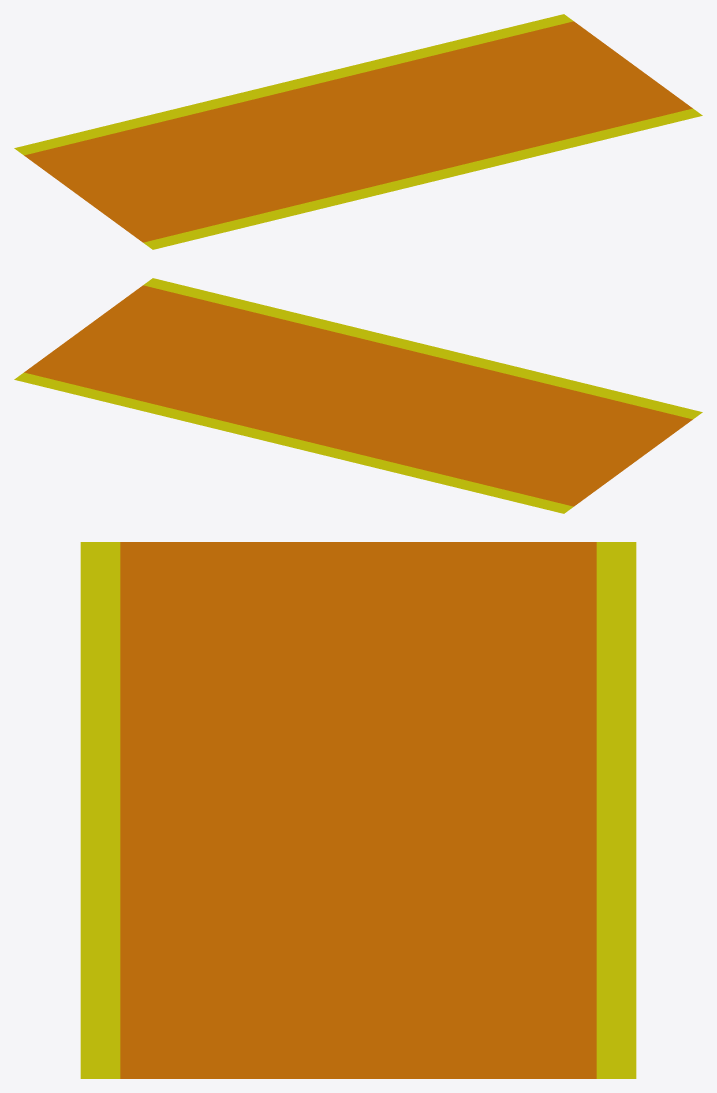
Rendered from Mesh_road_reduced_smaller.fbx.
3 views of the same model, one above another, from view 1: azimuth 30°, elevation 25°; view 2: azimuth 150°, elevation 25°; view 3: azimuth 270°, elevation 25° (orthographic). The views are drawn at different scales.
Parts seen in each view (by area): view 1: Mesh_road_reduced_smaller; view 2: Mesh_road_reduced_smaller; view 3: Mesh_road_reduced_smaller.
Boxes of the visible parts, bbox=[...] form: Mesh_road_reduced_smaller: bbox=[14, 14, 702, 249]; Mesh_road_reduced_smaller: bbox=[14, 278, 702, 513]; Mesh_road_reduced_smaller: bbox=[80, 542, 636, 1078].
Size of what is drawn, in the model's own units: 1600 by 0.000114 by 700.
